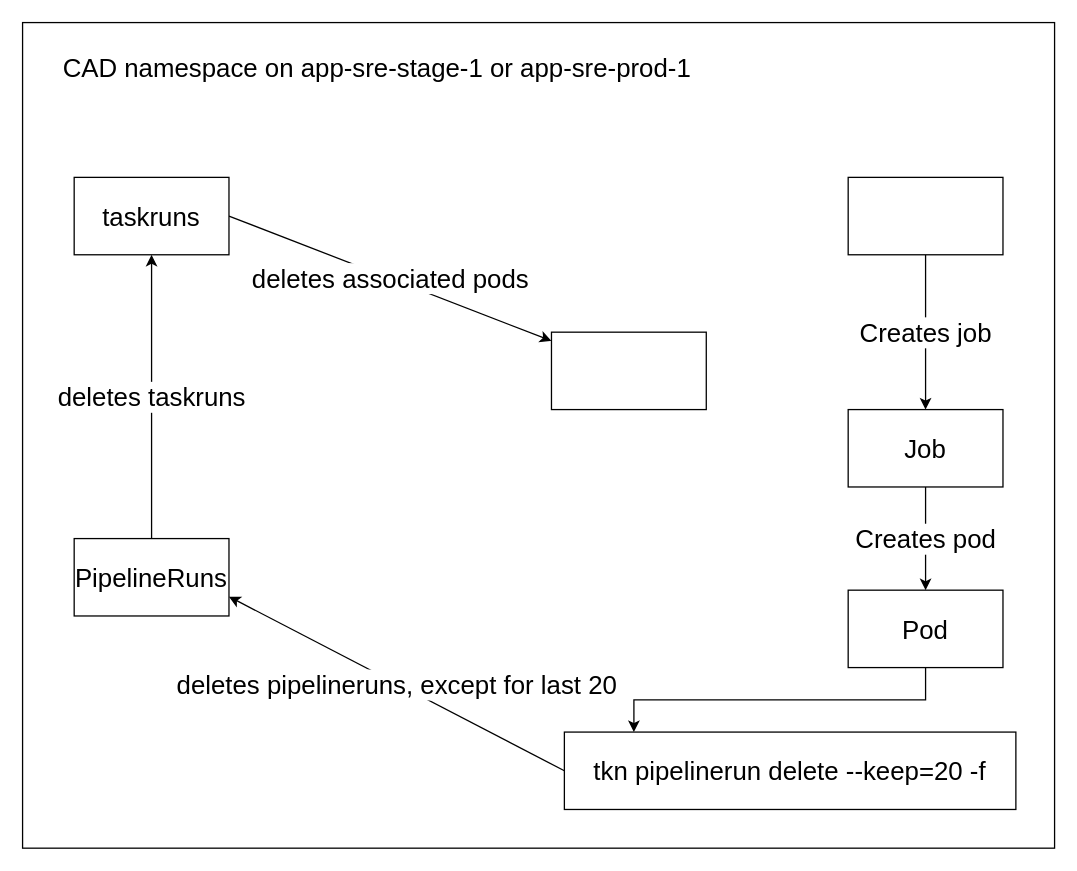
Image size: 1077x871. Some labels were removed from this diagram. The shapes that lost their labels are listed below. From the top down, each one's box as (x1, y1, x2, y2) in pixels, then its label:
(847, 176, 1003, 255): Cronjob
(550, 331, 706, 410): pods
